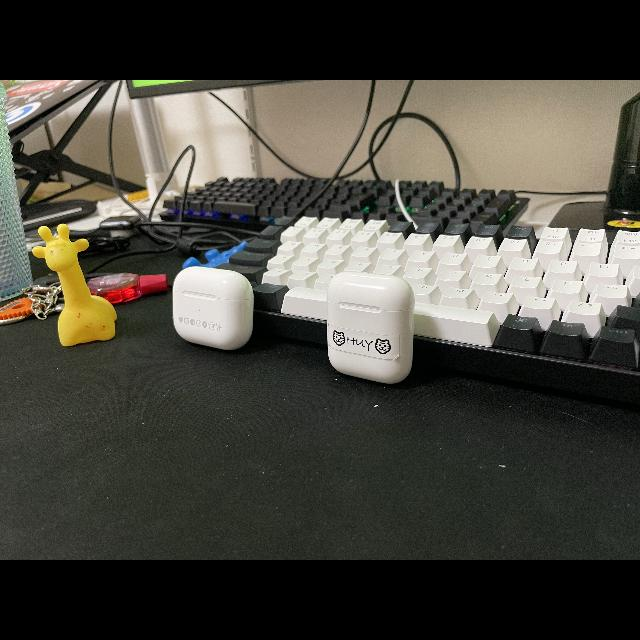airpod2: (323, 268, 419, 388)
airpod3: (168, 257, 262, 357)
